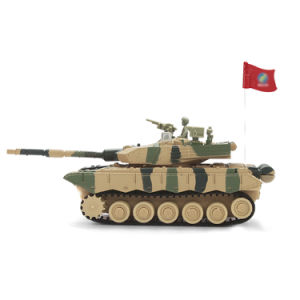Battle Tank: (43, 136, 275, 224)
